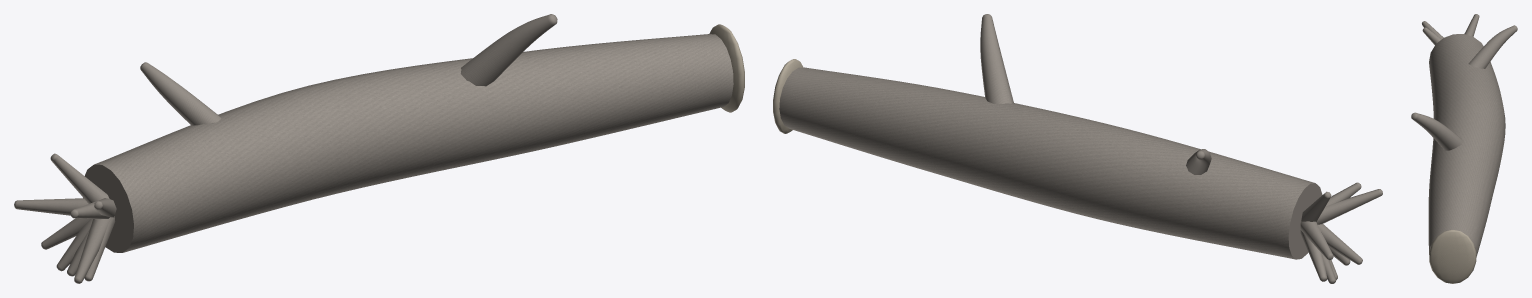
Rendered from exotic-wildlife-hd-fallen-log-0134f0e5__30230.glb.
The picture shows the model from 3 angles, left to right: view 1: azimuth 30°, elevation 25°; view 2: azimuth 150°, elevation 25°; view 3: azimuth 270°, elevation 25°; orthographic projection. The views are drawn at different scales.
Visible parts, largest first — view 1: fallen-log; view 2: fallen-log; view 3: fallen-log.
Part boxes in pixels (left/top/right/bottom): fallen-log: left=14, top=14, right=744, bottom=283; fallen-log: left=773, top=14, right=1382, bottom=283; fallen-log: left=1411, top=14, right=1517, bottom=283.
Size of the model in its own units: 5.09 by 1.27 by 1.07.
2 materials, 2 textured.
